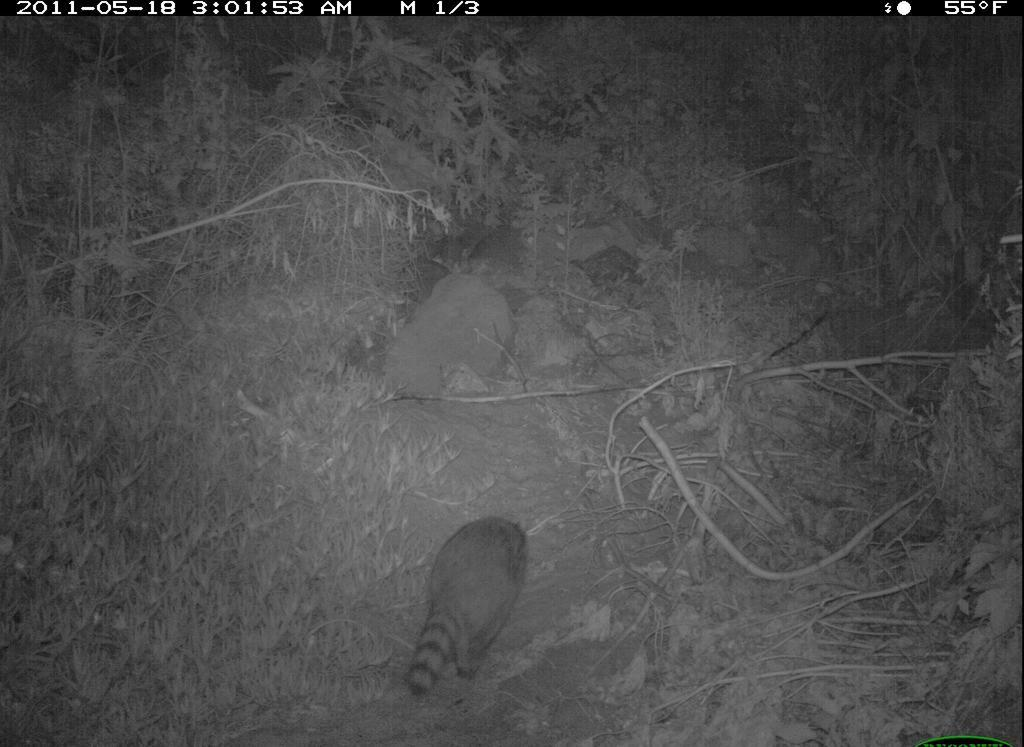raccoon: (406, 514, 534, 694)
